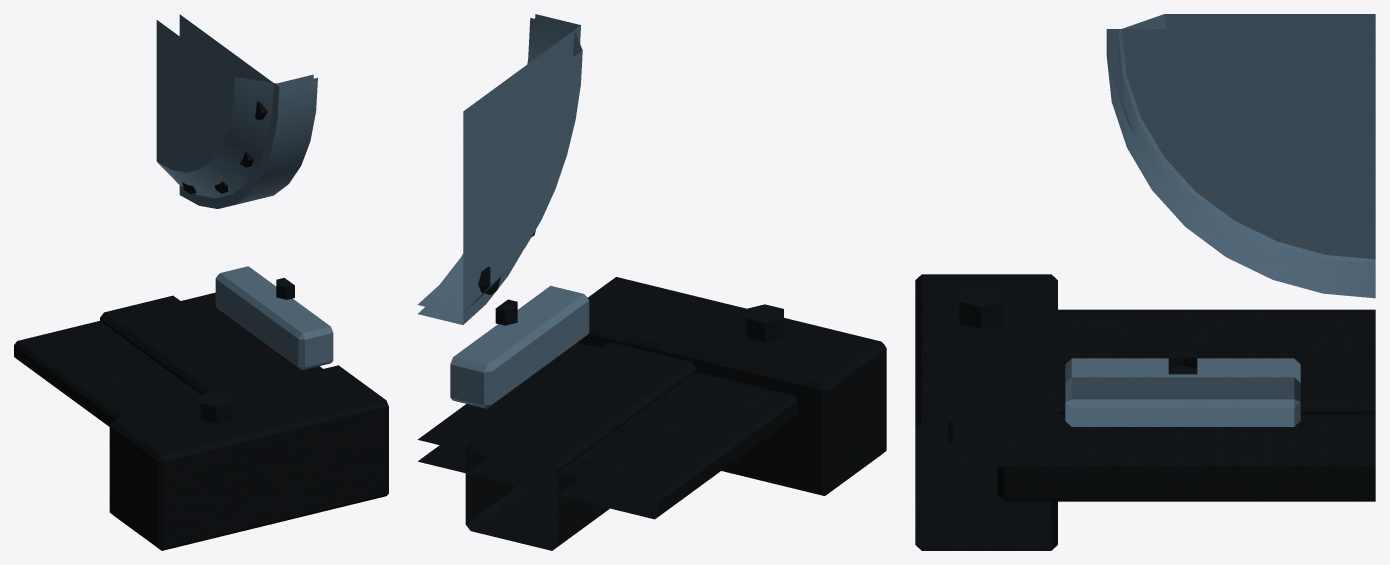
The model's file is cell_6.obj.
3 renders of one model, left to right at view 1: azimuth 30°, elevation 25°; view 2: azimuth 150°, elevation 25°; view 3: azimuth 270°, elevation 25°, orthographic. The views are drawn at different scales.
Visible parts, largest first — view 1: cell_6; view 2: cell_6; view 3: cell_6.
Part boxes in pixels (<box>): cell_6: <box>14,14,388,550</box>; cell_6: <box>417,14,886,550</box>; cell_6: <box>915,14,1375,550</box>.
Bounding box in the file's own units: 0.65 × 1 × 0.84.
